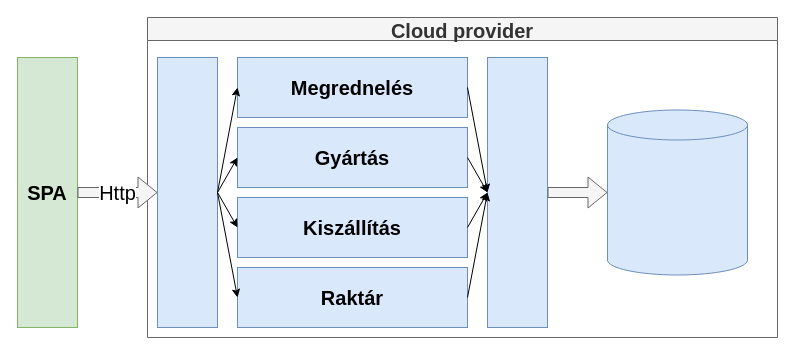
This 795x355 diagram has some shape labels left out. The centre of each missing label's shape, as x and y in pixels:
Adatbázis: pixel 677 192
API: pixel 187 192
DAL: pixel 517 192
